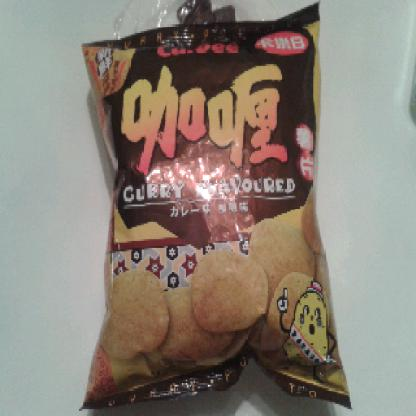potatochip: (65, 0, 356, 415)
